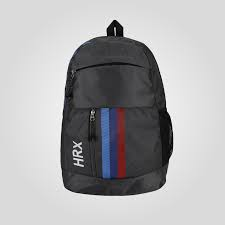backpack: (59, 19, 173, 196)
